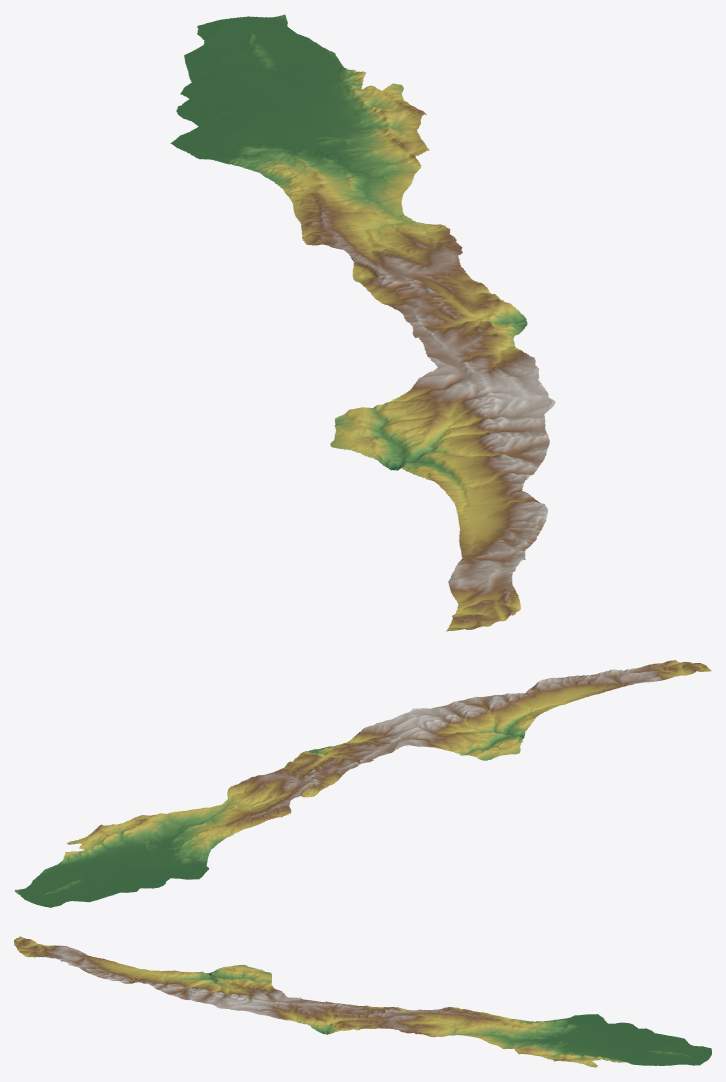
Rendered from Bogota_Terreno.glb.
3 views of the same model, one above another, from view 1: azimuth 30°, elevation 25°; view 2: azimuth 150°, elevation 25°; view 3: azimuth 270°, elevation 25° (orthographic). The views are drawn at different scales.
Visible parts, largest first — view 1: Terreno_Bogota_Web; view 2: Terreno_Bogota_Web; view 3: Terreno_Bogota_Web.
Boxes of the visible parts, bbox=[...] form: Terreno_Bogota_Web: bbox=[170, 14, 555, 631]; Terreno_Bogota_Web: bbox=[14, 660, 711, 907]; Terreno_Bogota_Web: bbox=[14, 936, 711, 1067].
Bounding box in the file's own units: 56250 × 1697 × 128250.
